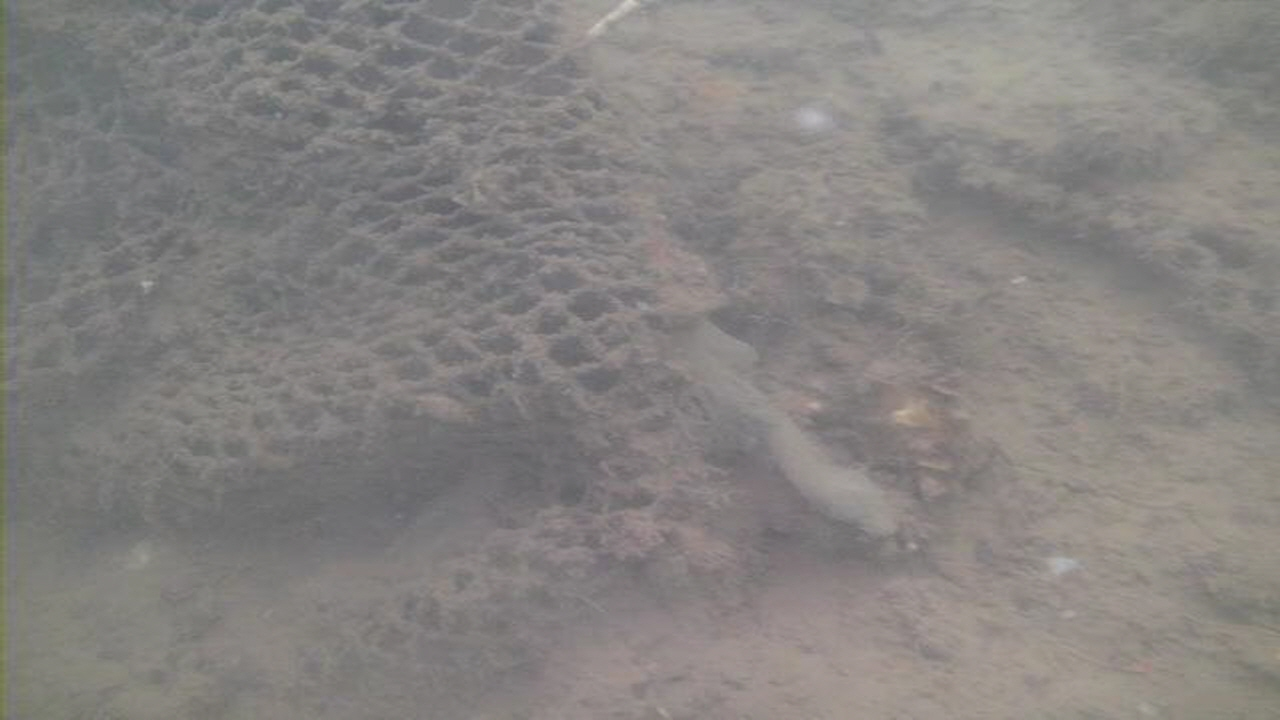fish net: (0, 0, 724, 685)
